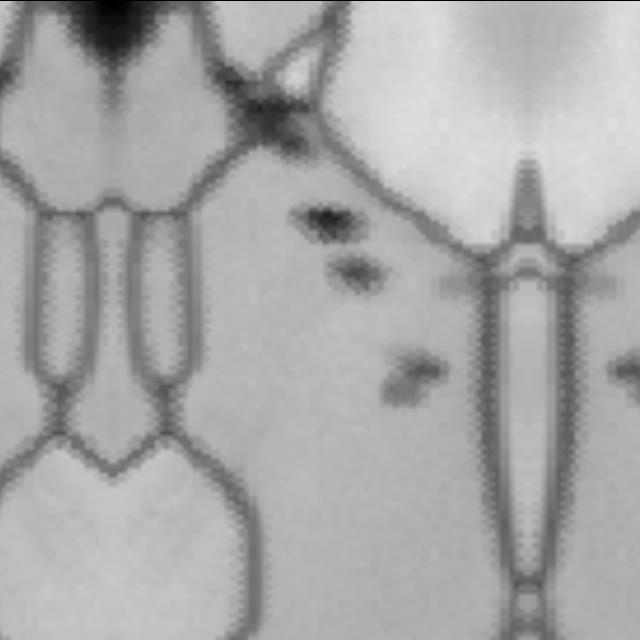good_void: (182, 49, 334, 173), (308, 231, 403, 321), (373, 336, 451, 418), (284, 198, 375, 244), (425, 253, 491, 311), (564, 256, 630, 308), (607, 341, 640, 410)
